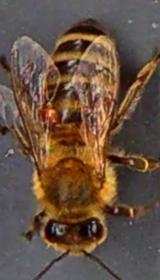varroa_mite: (34, 98, 64, 134)
